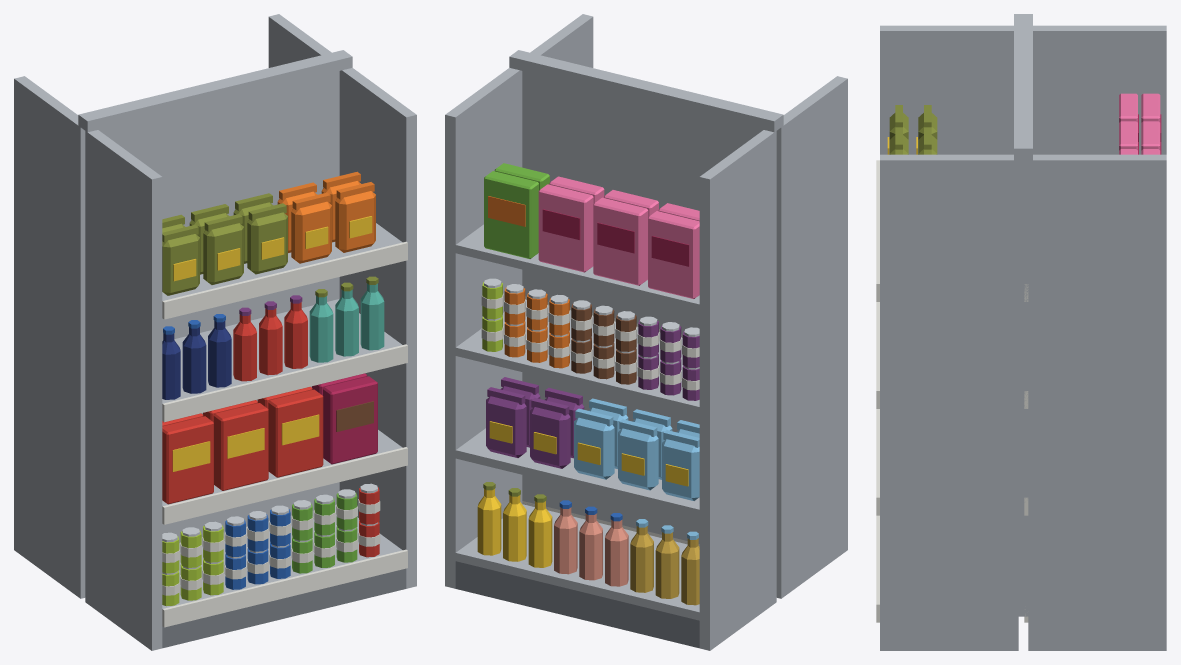
The model's file is gondola_mixed.glb.
3 renders of one model, left to right at view 1: azimuth 30°, elevation 25°; view 2: azimuth 150°, elevation 25°; view 3: azimuth 270°, elevation 25°, orthographic. The views are drawn at different scales.
Visible parts, largest first — view 1: gondola_mixed; view 2: gondola_mixed; view 3: gondola_mixed.
Boxes of the visible parts, x1=… form: gondola_mixed: x1=14, y1=14, x2=416, y2=650; gondola_mixed: x1=445, y1=14, x2=847, y2=650; gondola_mixed: x1=876, y1=14, x2=1166, y2=650.
Size of the model in its own units: 1 by 1.74 by 0.912.
Materials: 1 (1 with a texture image).
